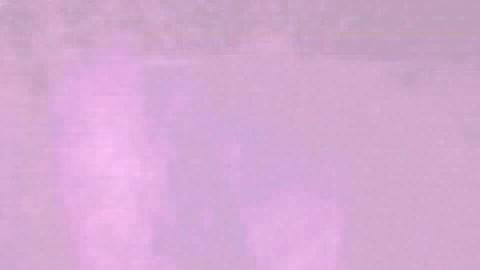tomato: (68, 78, 412, 270), (414, 115, 477, 268), (3, 123, 66, 268)
